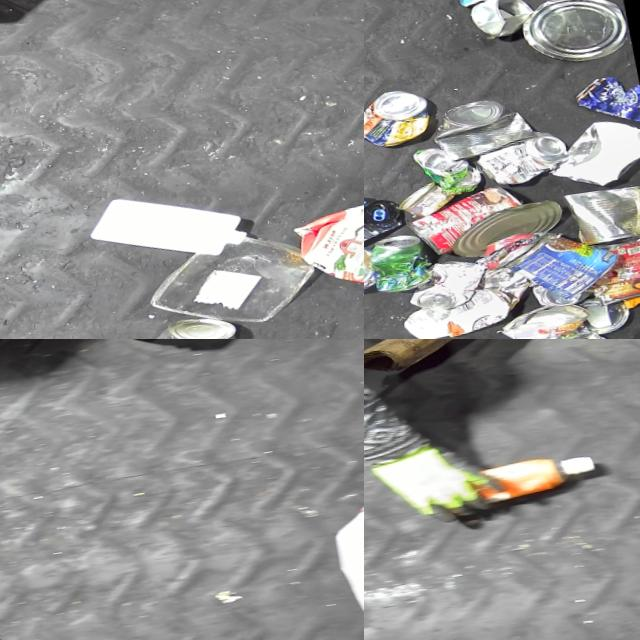can: (494, 222, 623, 307), (399, 183, 527, 260), (512, 0, 632, 70), (424, 94, 538, 165), (442, 199, 565, 261), (469, 130, 569, 190), (555, 184, 640, 249), (396, 256, 488, 314), (567, 73, 640, 133), (580, 234, 640, 307), (364, 87, 432, 151), (364, 230, 430, 293), (408, 142, 480, 198), (490, 301, 587, 339), (117, 312, 237, 339), (468, 0, 537, 41), (391, 179, 453, 221), (571, 294, 628, 338), (364, 191, 401, 258), (525, 279, 588, 310)
milk_jug: (81, 182, 250, 275), (313, 484, 364, 628)
non_white_jug: (278, 199, 364, 305)
